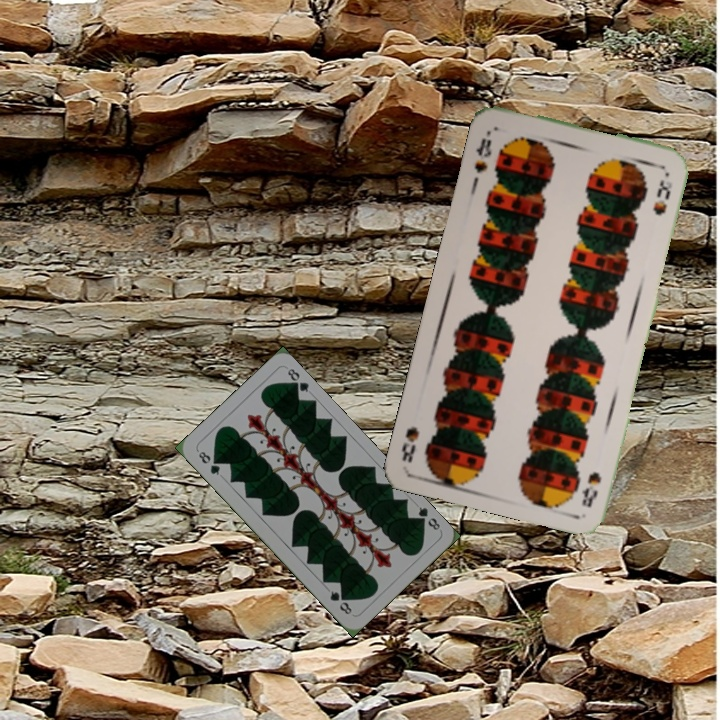G8: (412, 502, 443, 533), (194, 447, 223, 478)
S8: (470, 126, 494, 176), (577, 468, 604, 510)
